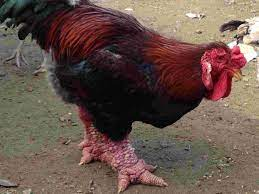Gà/Chicken: (58, 8, 255, 193)
